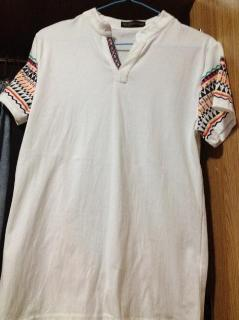short sleeve top: (0, 7, 237, 319)
